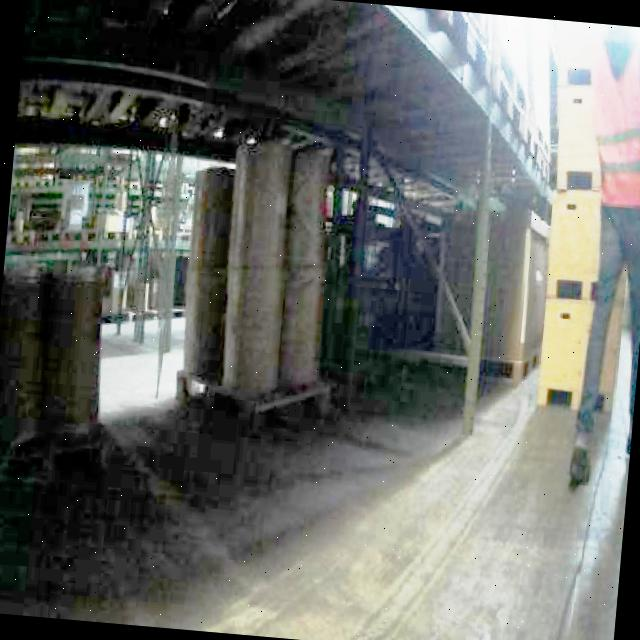ground: (0, 266, 640, 640)
pallet: (170, 128, 348, 424), (518, 19, 640, 417), (0, 248, 115, 478), (530, 184, 632, 415)
